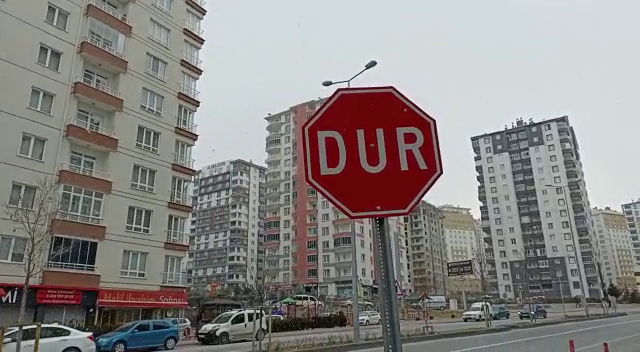stop: (297, 81, 450, 224)
